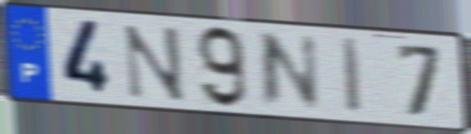4: (58, 16, 119, 102)
7: (395, 43, 447, 120)
9: (194, 24, 250, 111)
I: (339, 36, 365, 118)
N: (120, 22, 189, 104), (257, 31, 324, 112)
